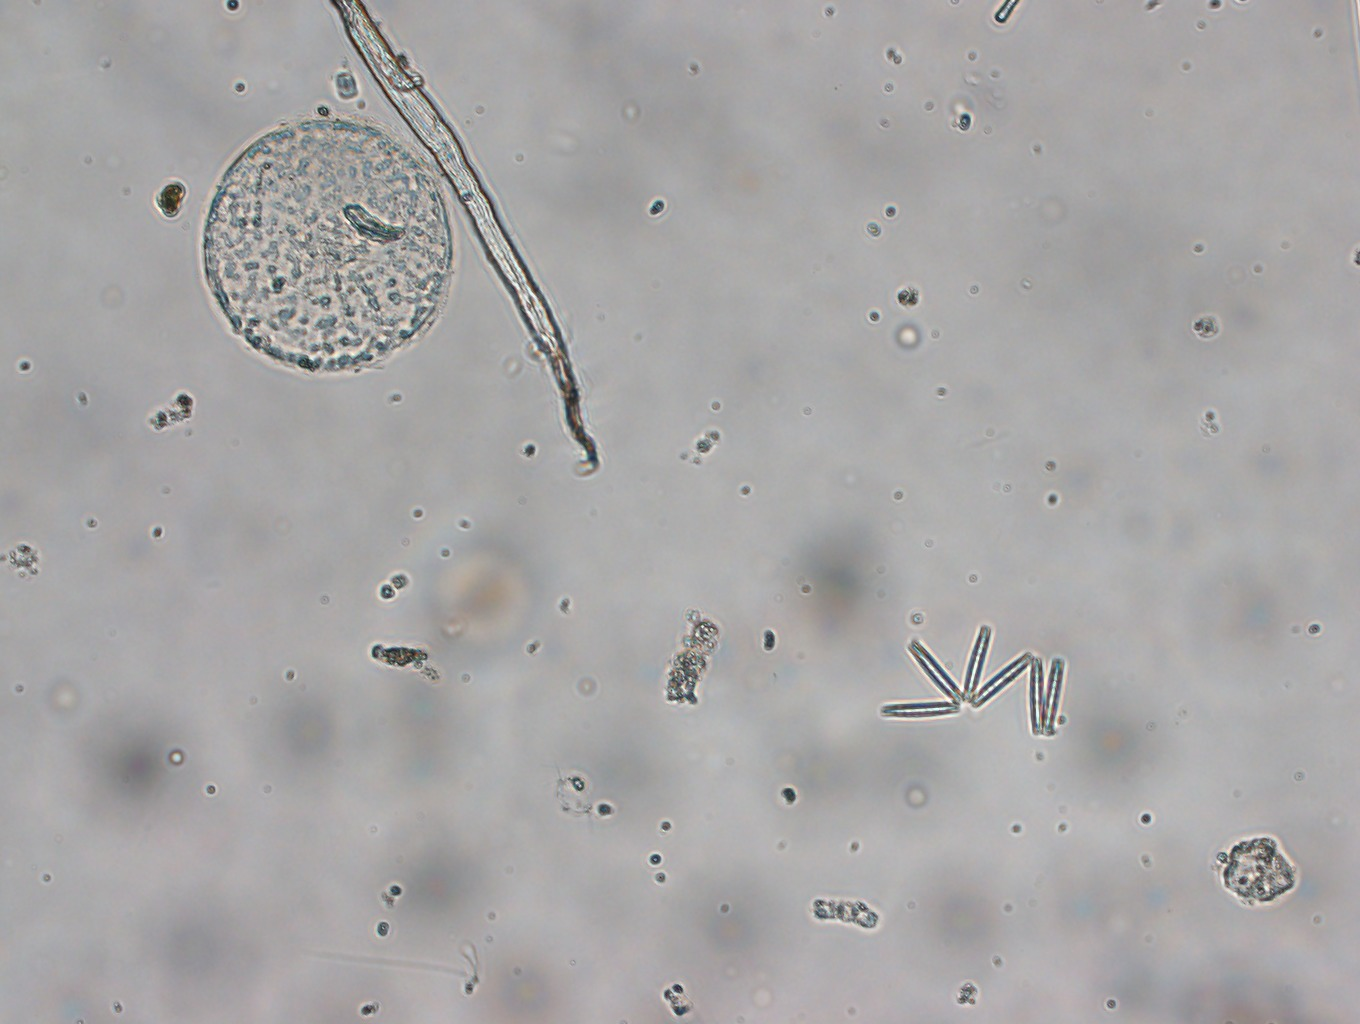coscinodiscus: (200, 115, 453, 376)
thalassionema nitzschioides: (881, 622, 1066, 737)
